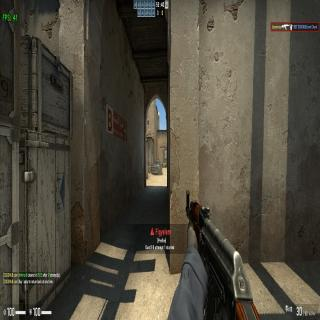CT-Body: (158, 158, 160, 160)
CT-Head: (158, 158, 159, 160)
